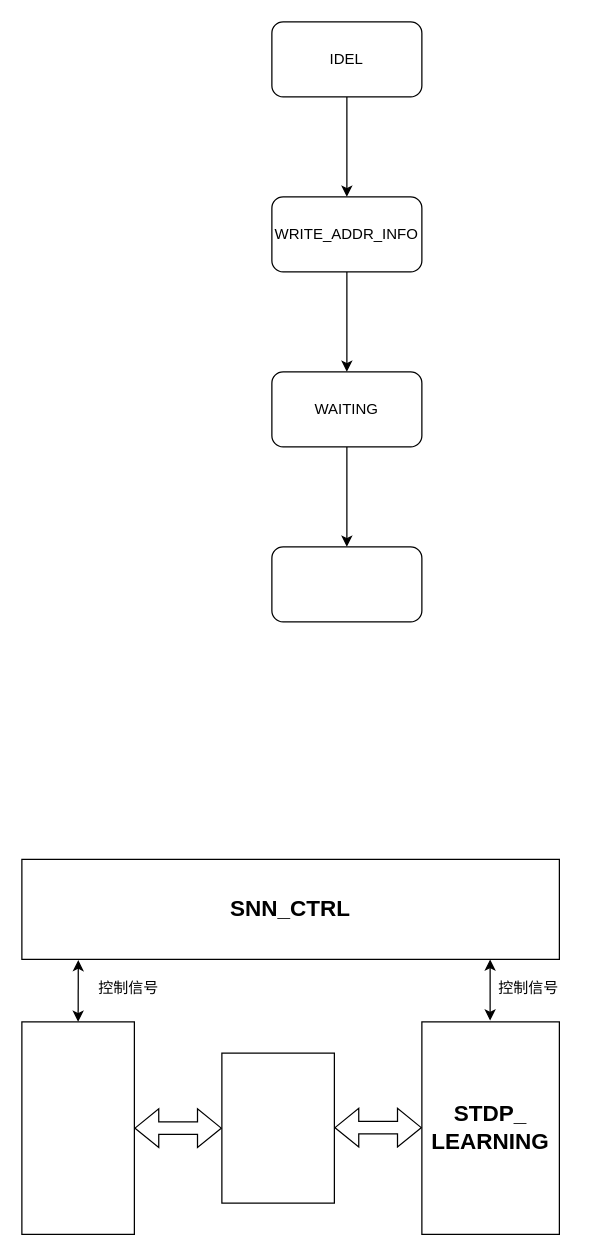
The diagram is 594 pixels wide and 1256 high, and some of its shapes have lost their labels. The centre of each missing label's shape, as x and y in pixels:
"FIFO" belongs at (277,1127).
"tran_inf" belongs at (77,1127).
"WRITE_DATA" belongs at (346,584).
